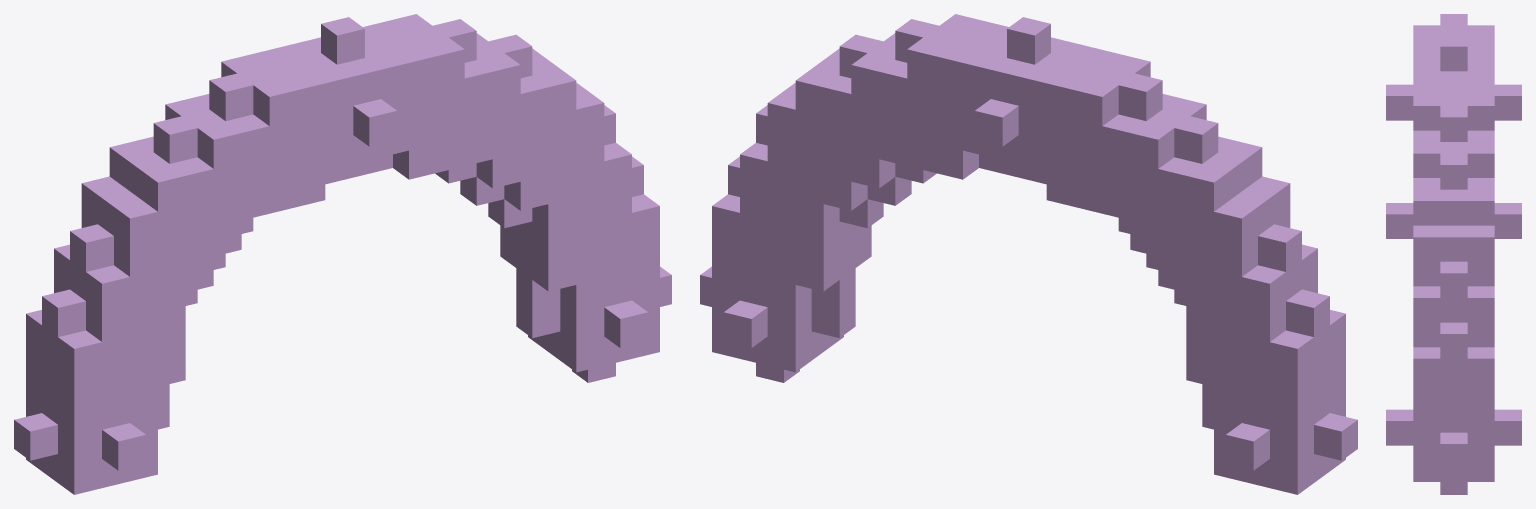
The model's file is alien-biosphere-mineral-arch-b926163c__22738.glb.
3 renders of one model, left to right at view 1: azimuth 30°, elevation 25°; view 2: azimuth 150°, elevation 25°; view 3: azimuth 270°, elevation 25°, orthographic. The views are drawn at different scales.
Visible parts, largest first — view 1: mineral-arch; view 2: mineral-arch; view 3: mineral-arch.
Boxes of the visible parts, x1,y1,x2,y2 form: mineral-arch: (14, 14, 671, 494); mineral-arch: (700, 14, 1357, 494); mineral-arch: (1386, 14, 1521, 494).
Size of the model in its own units: 4.6 by 2.8 by 1.
